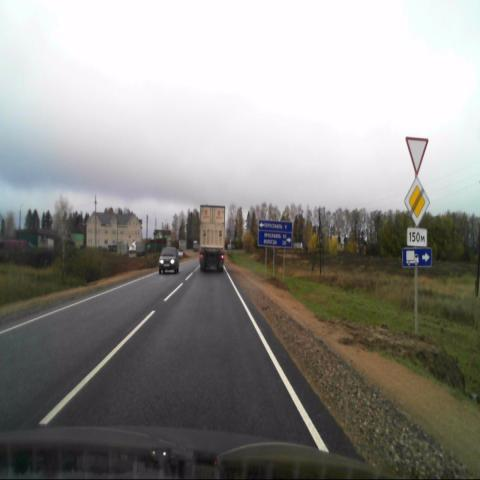2_4: (405, 136, 428, 177)
6_15_2: (402, 246, 432, 267)
8_1_1: (407, 229, 426, 247)
